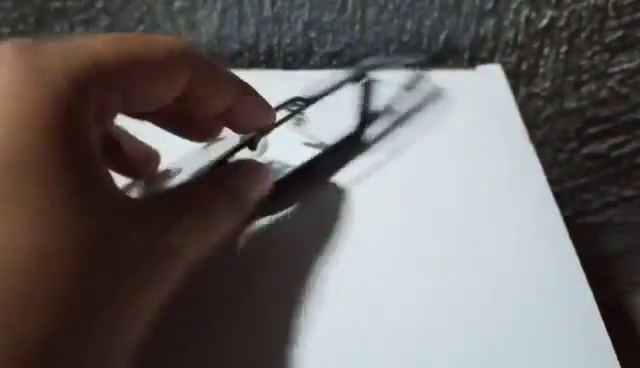glasses: (118, 56, 383, 233)
hand: (1, 31, 278, 368)
